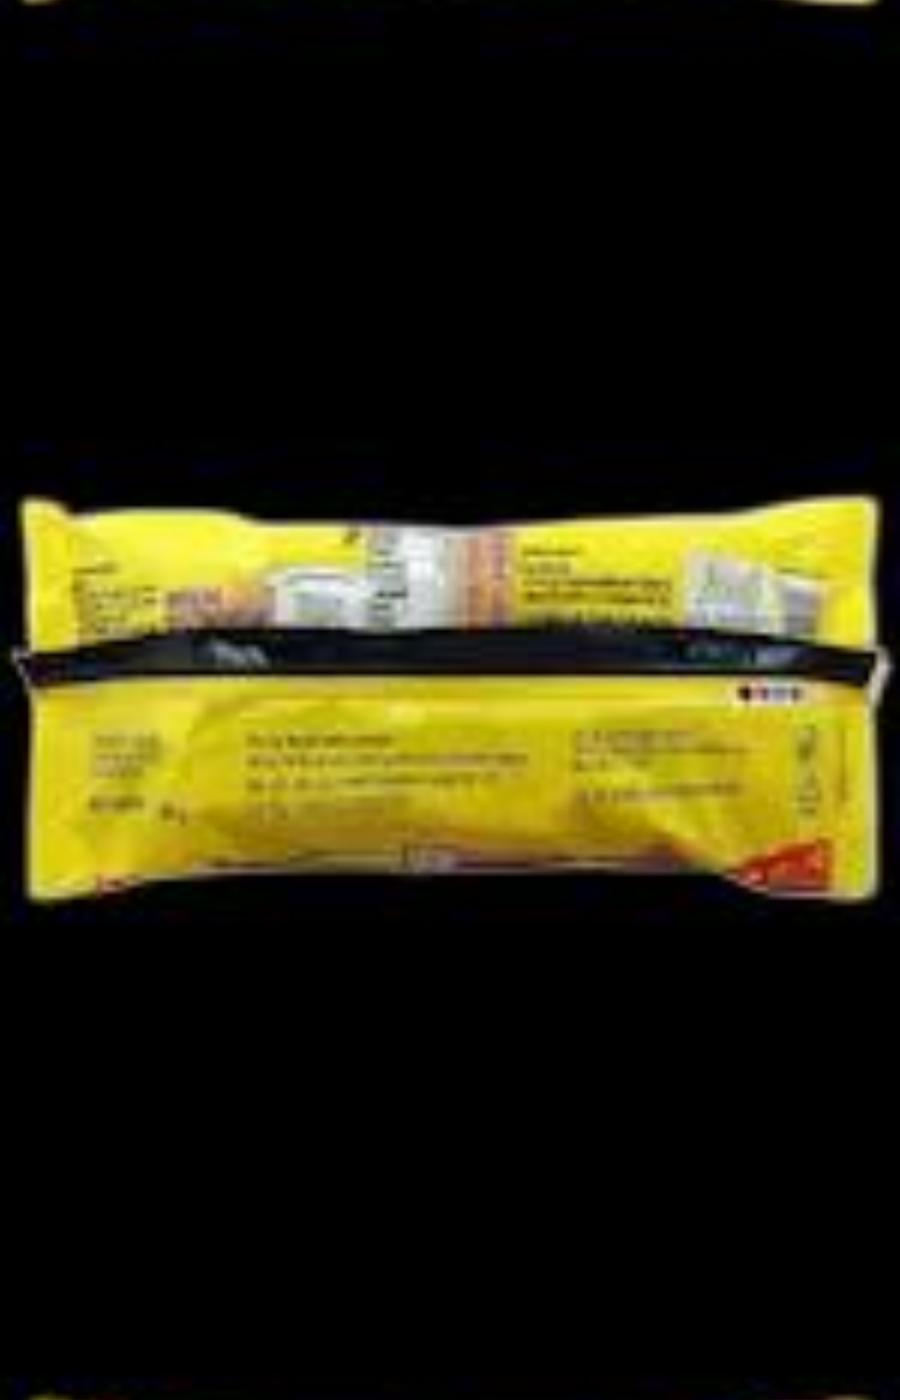Maggi 2-Minute Masala Instant Noodles 280 g: (27, 498, 886, 906)
